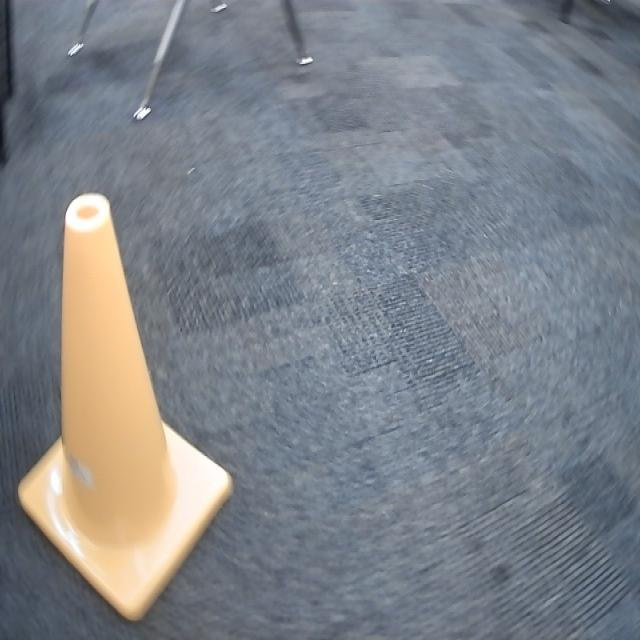cone: (15, 190, 235, 624)
